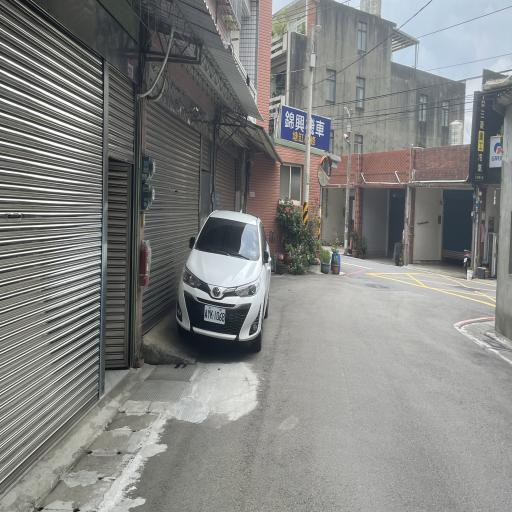car: (170, 183, 275, 361)
redline: (448, 312, 495, 337)
